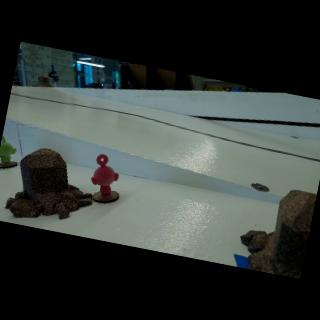teletubby: (91, 154, 118, 196), (0, 135, 16, 165)
